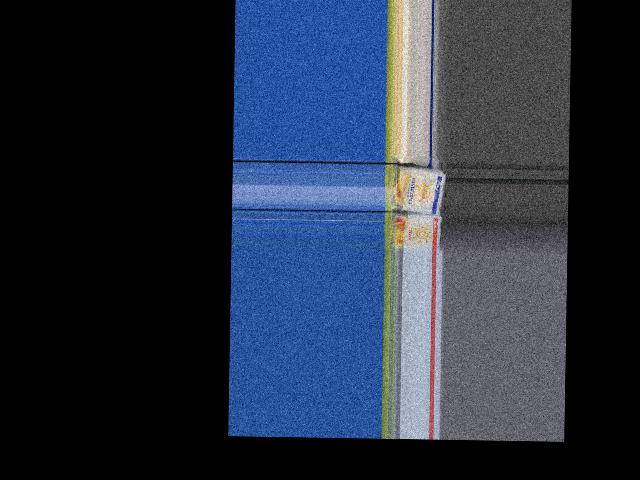cheese: (383, 214, 444, 253)
